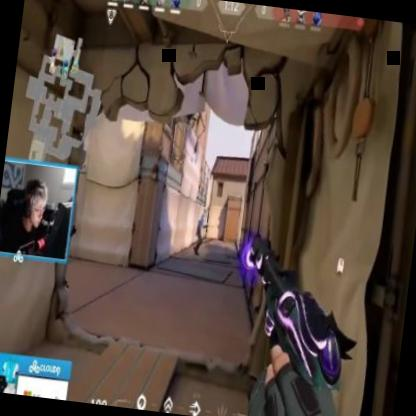enemy: (192, 206, 209, 256)
enemy_head: (202, 207, 206, 215)
